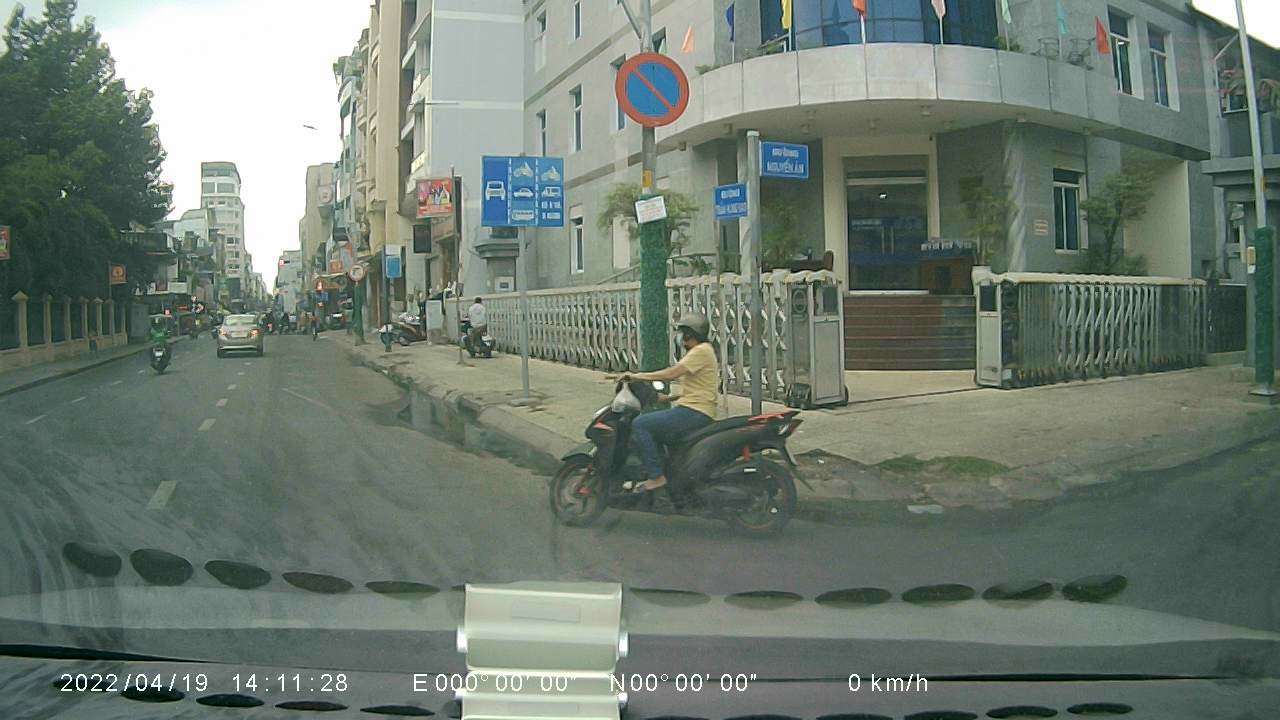Cam do xe: (610, 50, 688, 129)
